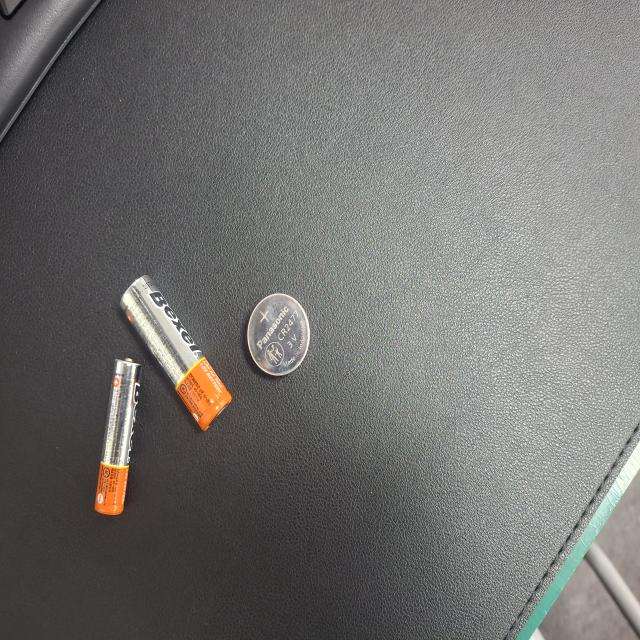AA: (205, 542, 320, 640)
COIN: (219, 441, 284, 524)
